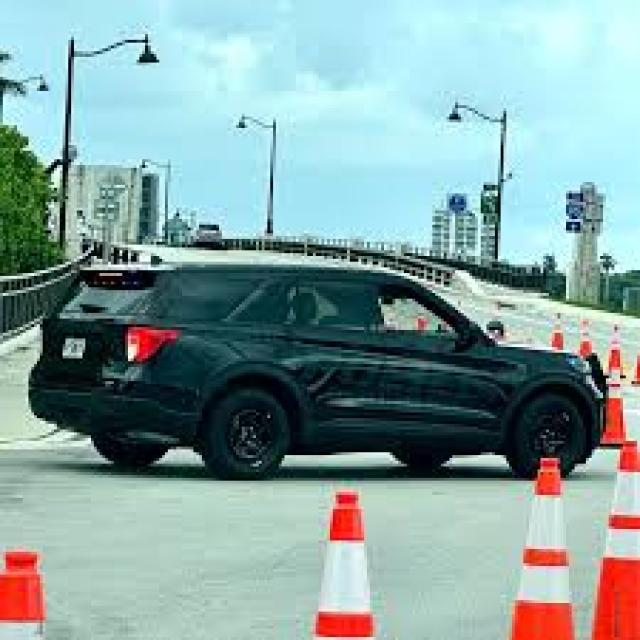cop: (22, 254, 606, 505)
